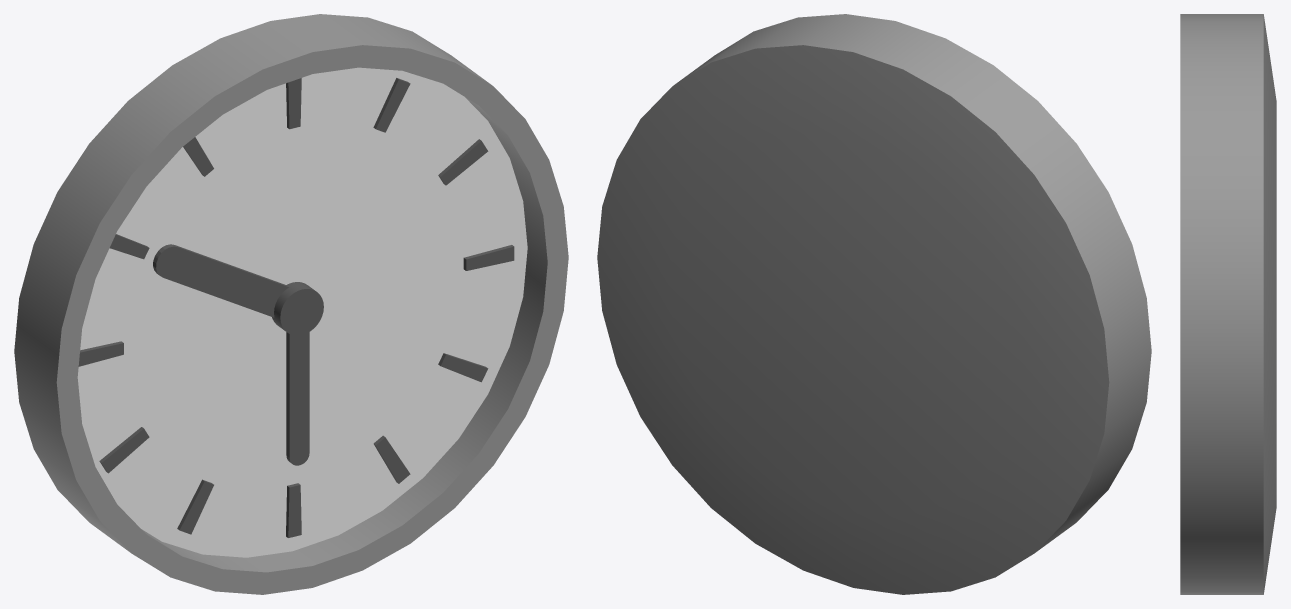
File: ten_thirty.glb
3 views of the same model, side by side, from view 1: azimuth 30°, elevation 25°; view 2: azimuth 150°, elevation 25°; view 3: azimuth 270°, elevation 25° (orthographic).
Visible parts, largest first — view 1: Circle.2492, Circle.2493, Plane.292, Plane.293; view 2: Circle.2492; view 3: Circle.2492.
Part boxes in pixels (<box>): Circle.2492: <box>14,14,568,594</box>; Circle.2493: <box>78,78,514,537</box>; Plane.292: <box>153,244,288,317</box>; Plane.293: <box>286,332,309,465</box>; Circle.2492: <box>597,14,1151,594</box>; Circle.2492: <box>1180,14,1276,594</box>.
Size of the model in its own units: 2.33 by 2.33 by 0.387.
Materials: 1 (1 with a texture image).
